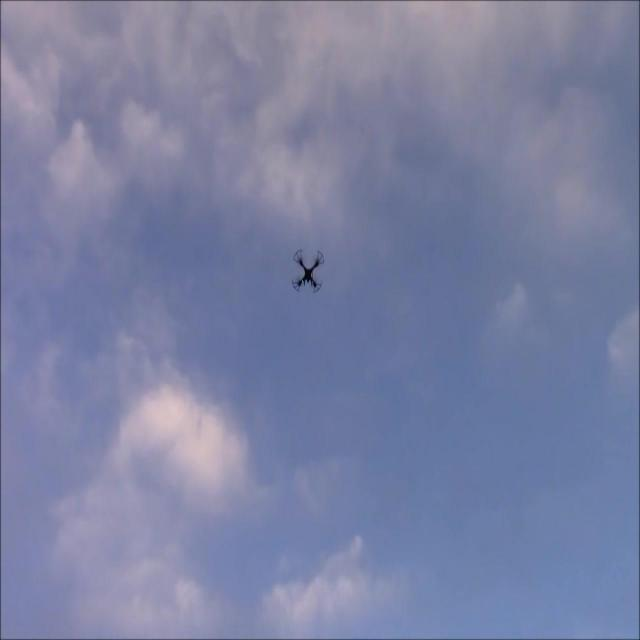UAV: (292, 250, 324, 293)
